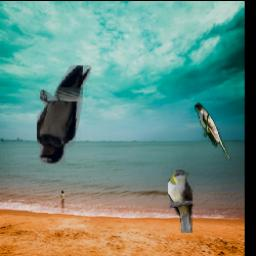Cuckoo: (195, 102, 231, 161), (168, 171, 195, 234)
Swallow: (36, 65, 90, 164)
